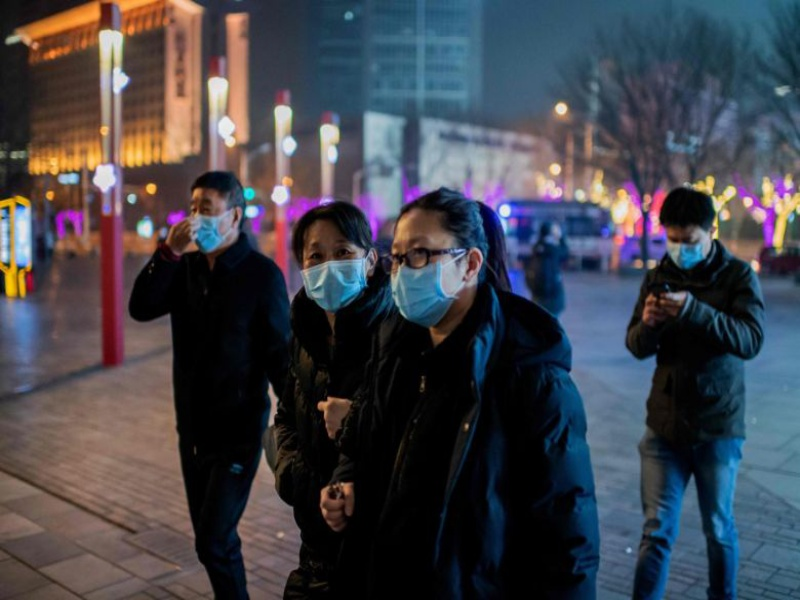ManaoArotava: (381, 178, 485, 348), (290, 208, 383, 327), (654, 181, 732, 288), (181, 174, 240, 266)
